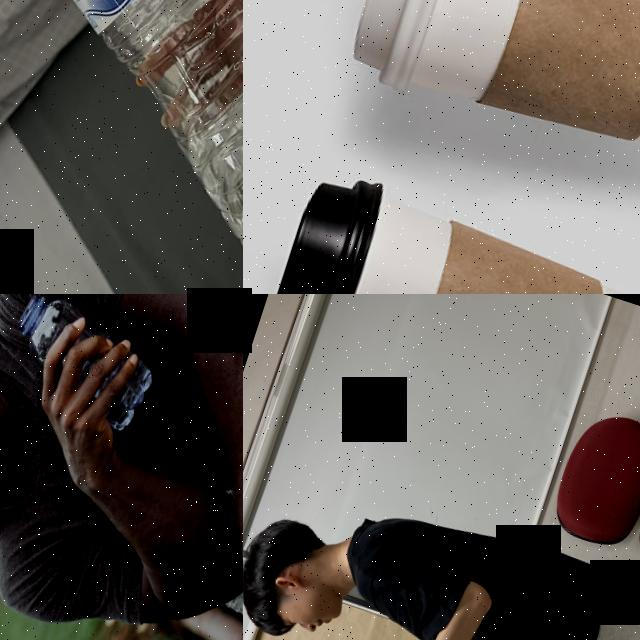bottle: (0, 0, 243, 294), (0, 294, 168, 443)
cup: (338, 0, 640, 196), (257, 160, 640, 294)
